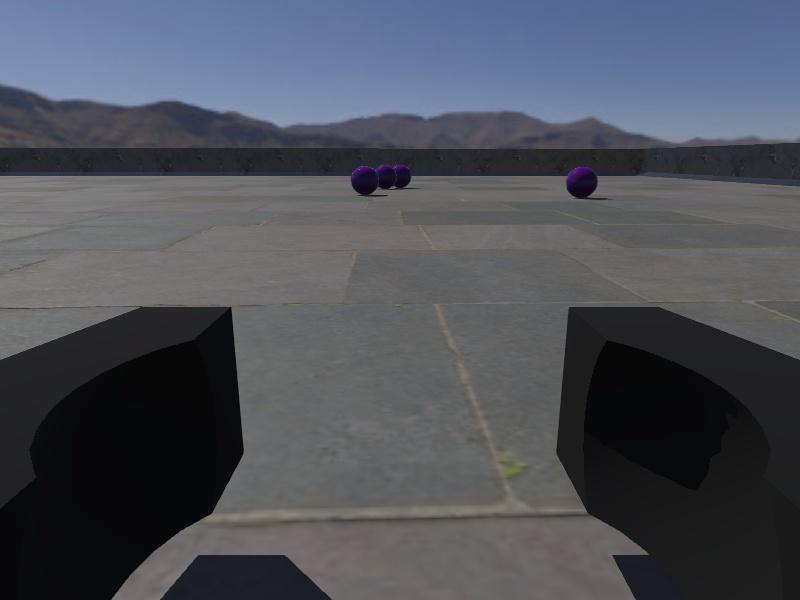violet ball: (565, 165, 597, 198), (351, 165, 379, 196)
